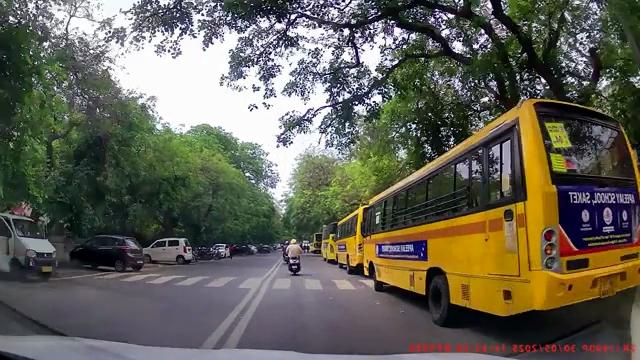motorcycle_with_helmet: (286, 238, 304, 276)
